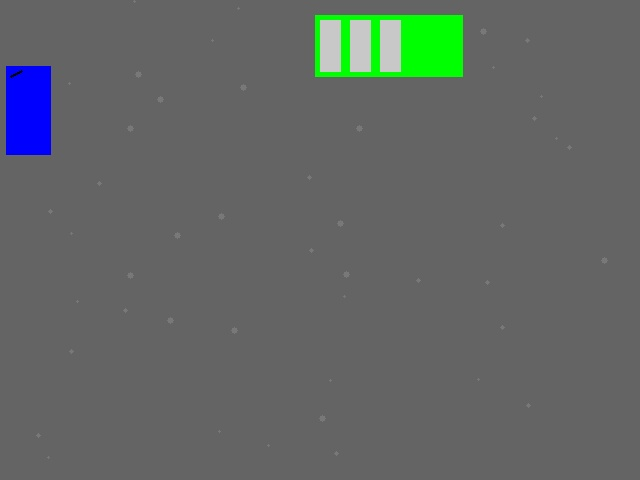bus: (315, 15, 462, 76)
motorcycle: (6, 66, 50, 154)
